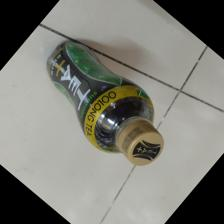Olong: (42, 39, 169, 169)
